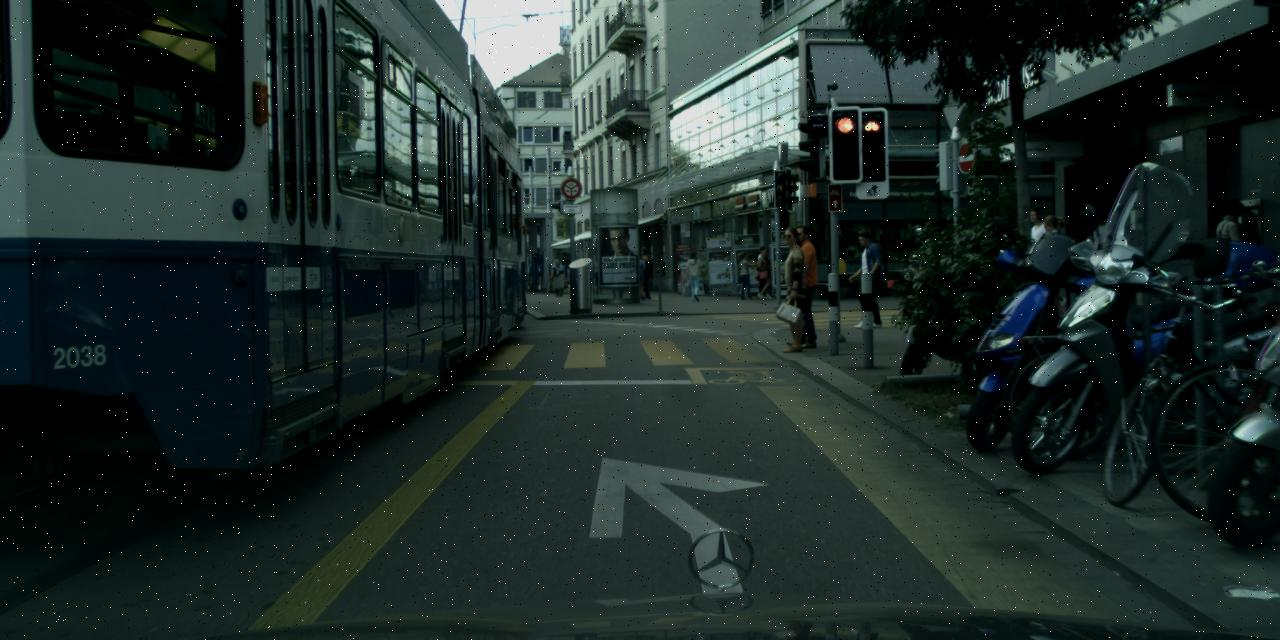ped: (1206, 197, 1260, 328), (766, 226, 817, 350), (778, 225, 828, 346), (846, 230, 886, 328), (1032, 215, 1069, 306), (1019, 207, 1055, 296), (634, 246, 655, 298), (752, 246, 772, 294), (628, 252, 648, 299), (684, 252, 703, 300), (756, 250, 774, 297), (736, 253, 754, 298), (550, 258, 564, 296)
